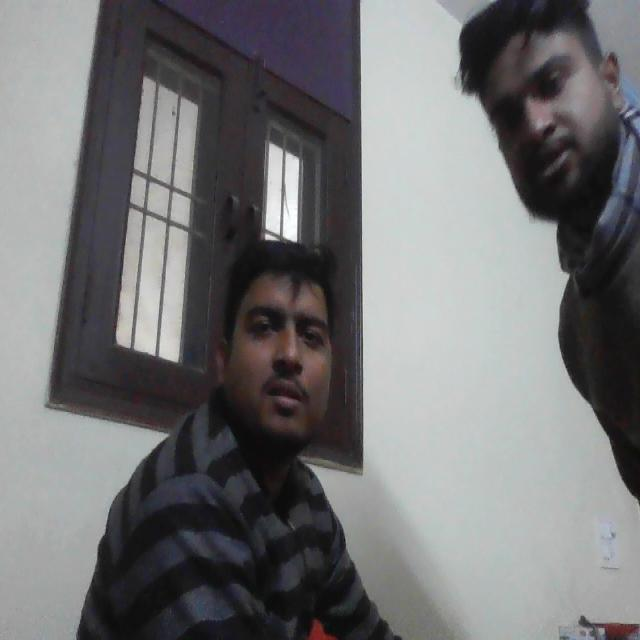real: (486, 0, 618, 249), (221, 222, 342, 450)
